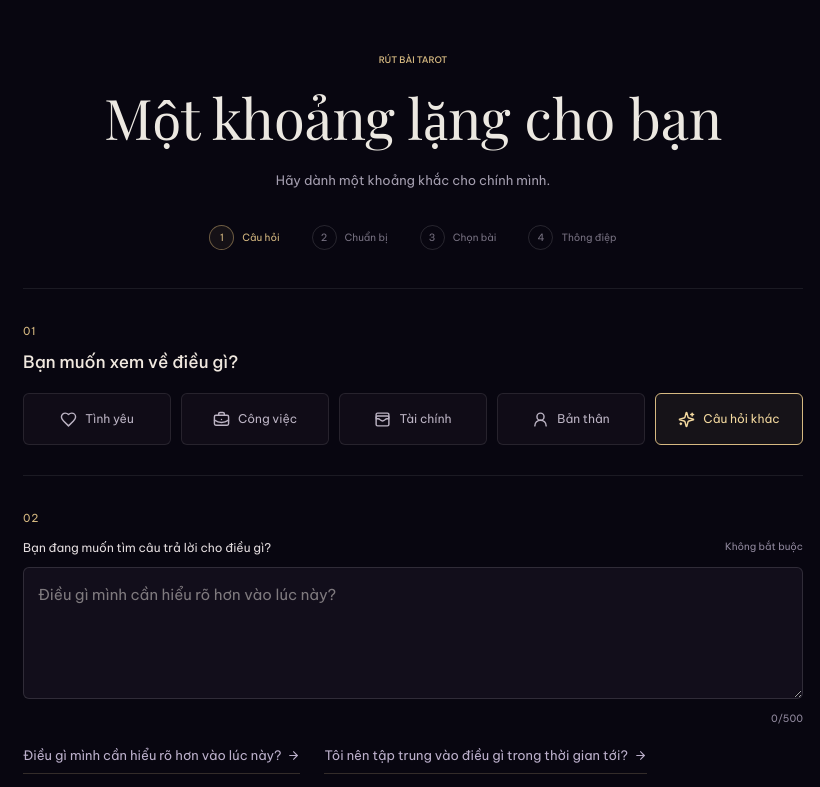
Test: User workflows › shows context choices that match the selected topic
The image size is (820, 787).
Click the radio button labelled "Tình yêu" at {"x": 97, "y": 419}, box [23,393,171,445]
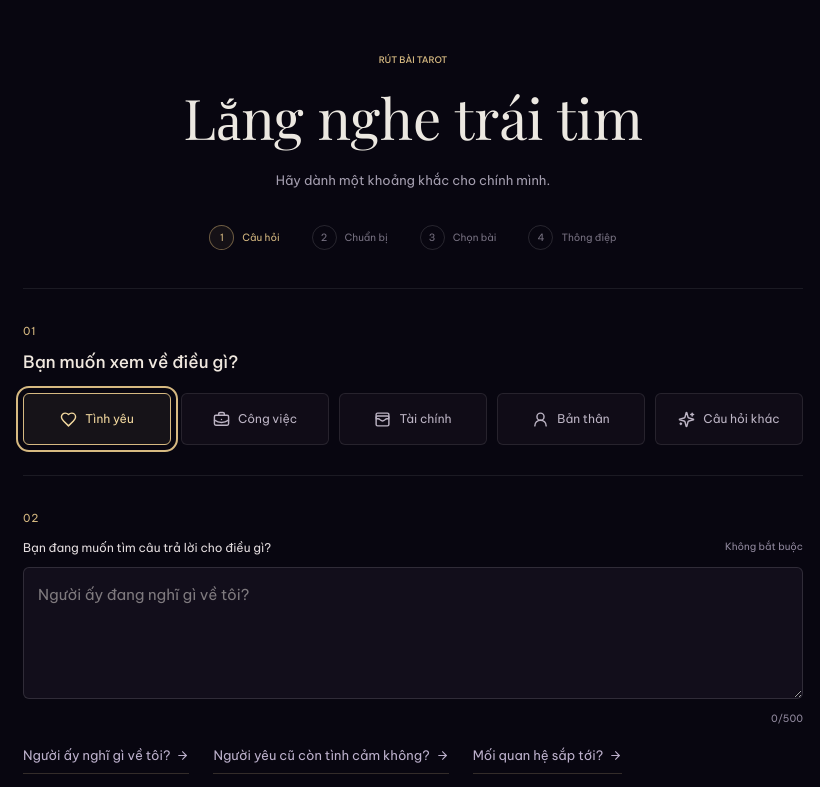
Click the radio button labelled "Công việc" at {"x": 255, "y": 419}, box [181,393,329,445]
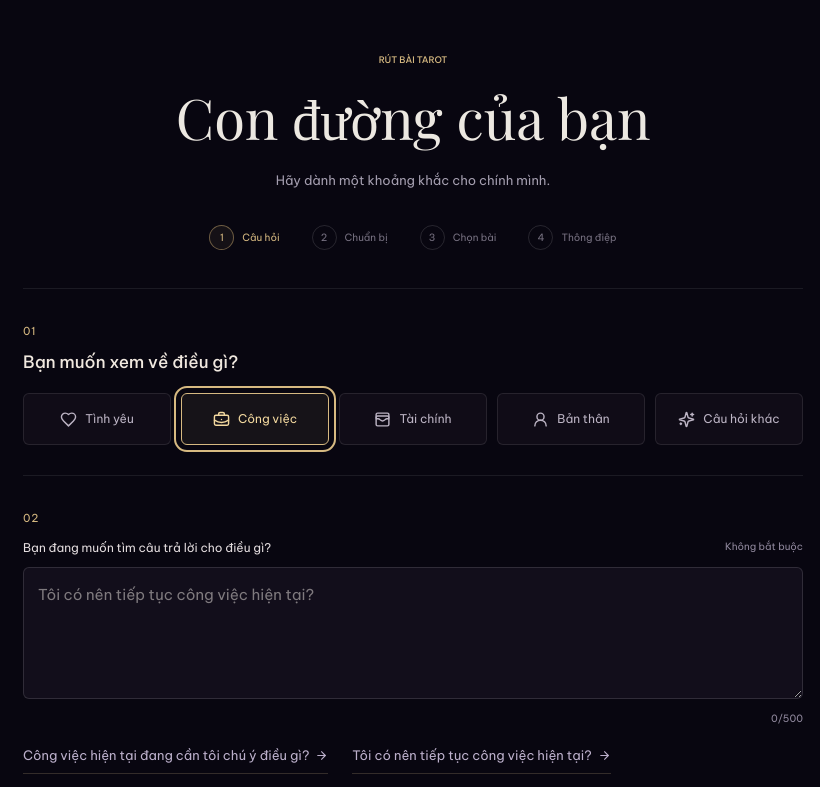
Click the radio button labelled "Tài chính" at {"x": 413, "y": 419}, box [339,393,487,445]
(page scrolled)
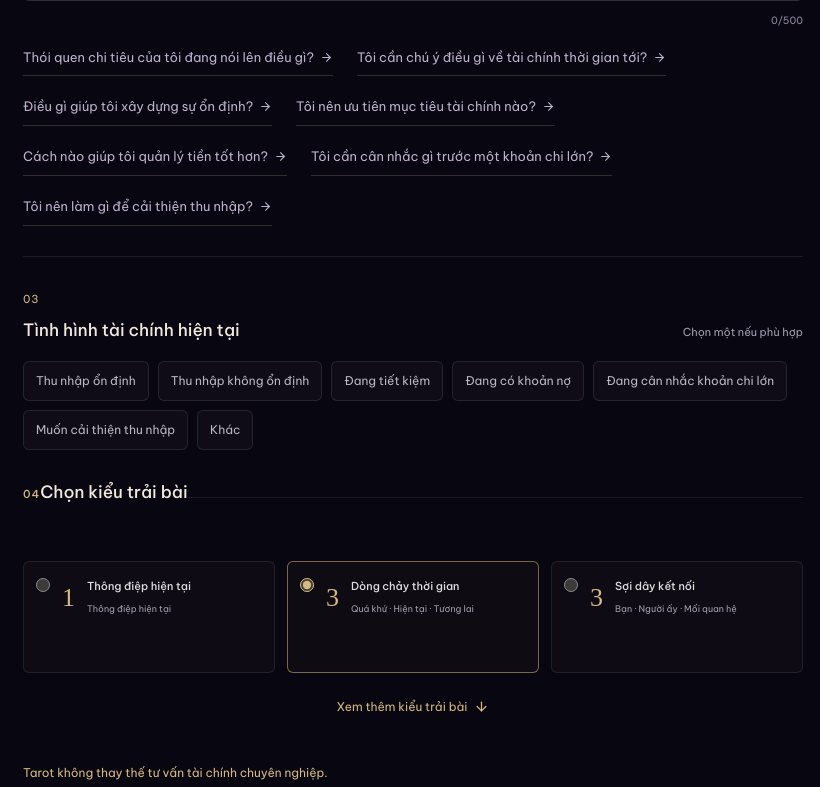
expect the element named "Tình hình tài chính hiện tại" is shown: met, box [23,361,803,450]
